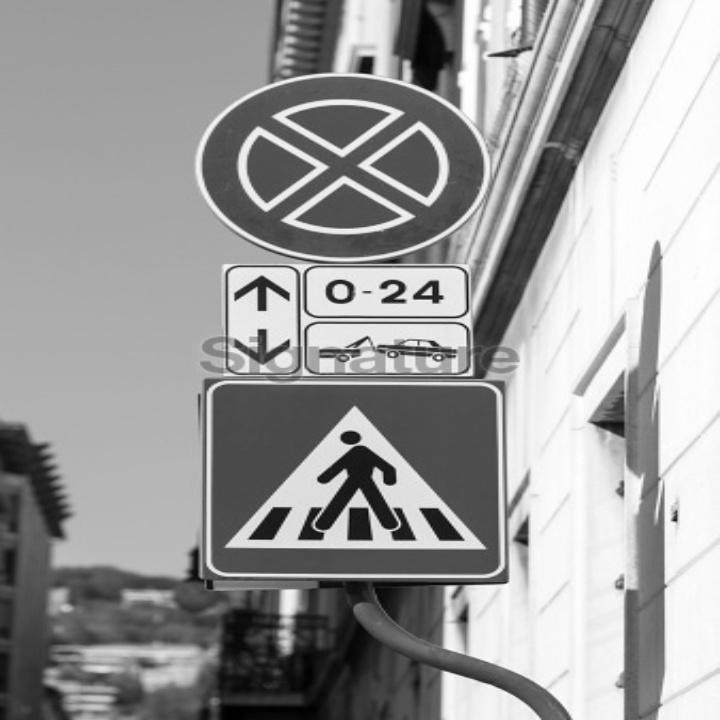cross: (230, 410, 465, 557)
